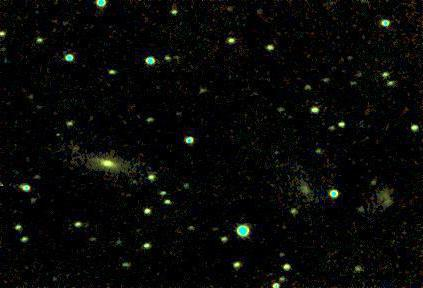star: (42, 121, 72, 151)
